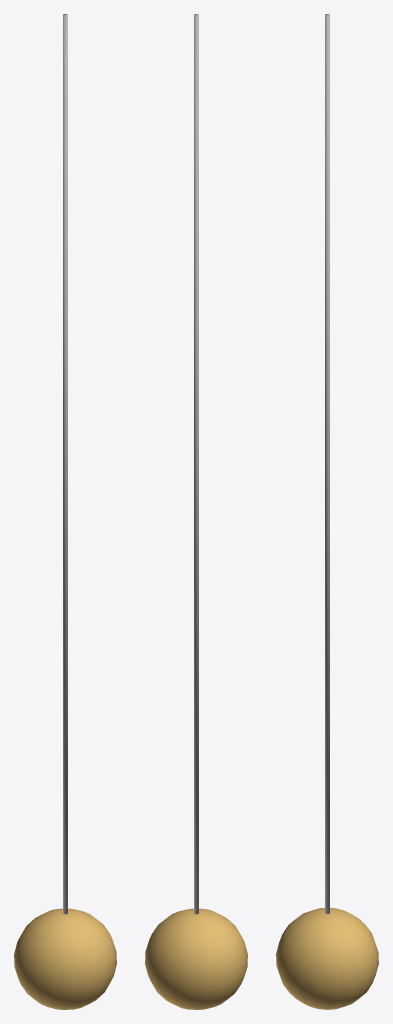
Rendered from pendulum_snake_p4.glb.
3 views of the same model, side by side, from view 1: azimuth 30°, elevation 25°; view 2: azimuth 150°, elevation 25°; view 3: azimuth 330°, elevation 25° (orthographic).
Parts seen in each view (by area): view 1: Sphere4.001, Pendulum4.001; view 2: Sphere4.001, Pendulum4.001; view 3: Sphere4.001, Pendulum4.001.
Boxes of the visible parts, <box> form: Sphere4.001: <box>14,908,116,1009</box>; Pendulum4.001: <box>63,14,67,914</box>; Sphere4.001: <box>145,908,247,1009</box>; Pendulum4.001: <box>194,14,198,914</box>; Sphere4.001: <box>276,908,378,1009</box>; Pendulum4.001: <box>325,14,329,913</box>.
Size of the model in its own units: 0.0397 by 0.4273 by 0.04.
